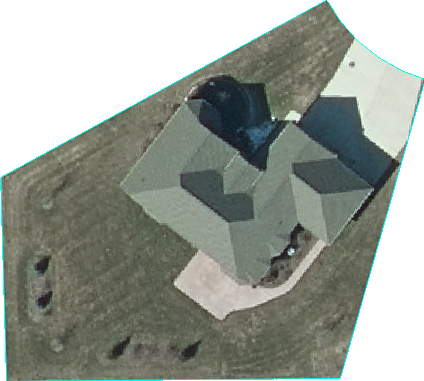house: (118, 99, 378, 286)
